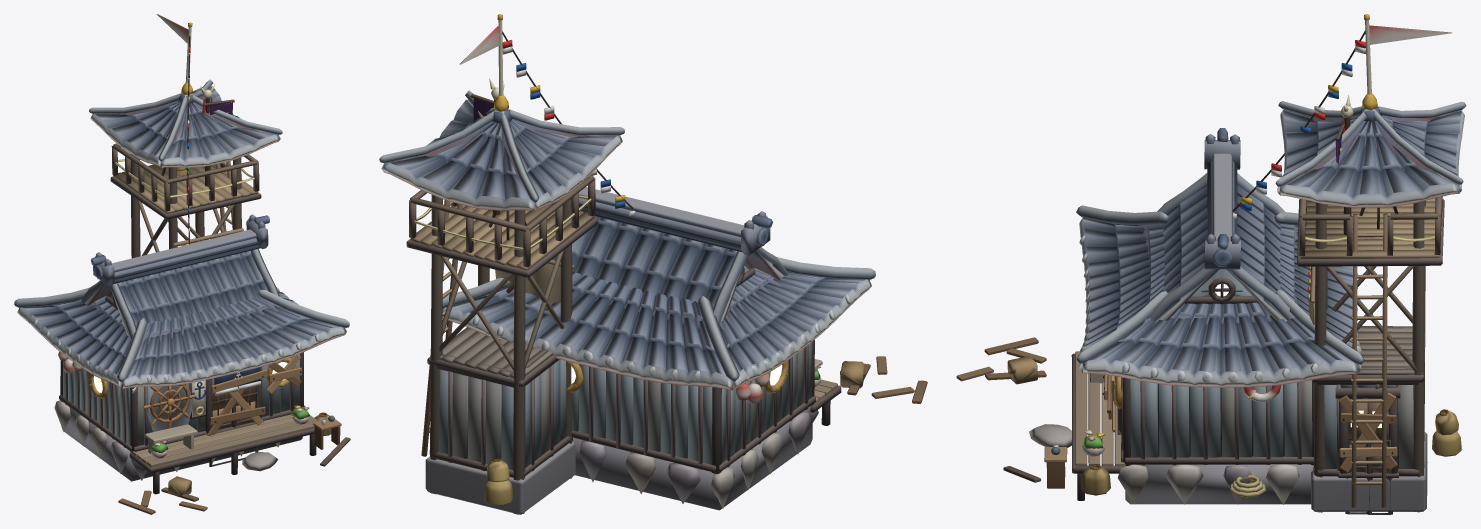
Rendered from zv-tidepool-elder.glb.
The picture shows the model from 3 angles, left to right: view 1: azimuth 30°, elevation 25°; view 2: azimuth 150°, elevation 25°; view 3: azimuth 270°, elevation 25°; orthographic projection. The views are drawn at different scales.
Parts seen in each view (by area): view 1: zv-tidepool-elder, siege, saved; view 2: zv-tidepool-elder, siege, saved; view 3: zv-tidepool-elder, siege, saved.
Boxes of the visible parts, left/top/right/bottom form: zv-tidepool-elder: left=14, top=14, right=349, bottom=494; siege: left=118, top=84, right=350, bottom=514; saved: left=130, top=36, right=341, bottom=458; zv-tidepool-elder: left=379, top=14, right=875, bottom=514; siege: left=430, top=78, right=927, bottom=418; saved: left=502, top=31, right=821, bottom=386; zv-tidepool-elder: left=1029, top=14, right=1466, bottom=514; siege: left=956, top=95, right=1397, bottom=482; saved: left=1044, top=30, right=1365, bottom=488.
Bounding box in the file's own units: 5.23 × 7.03 × 6.78.
